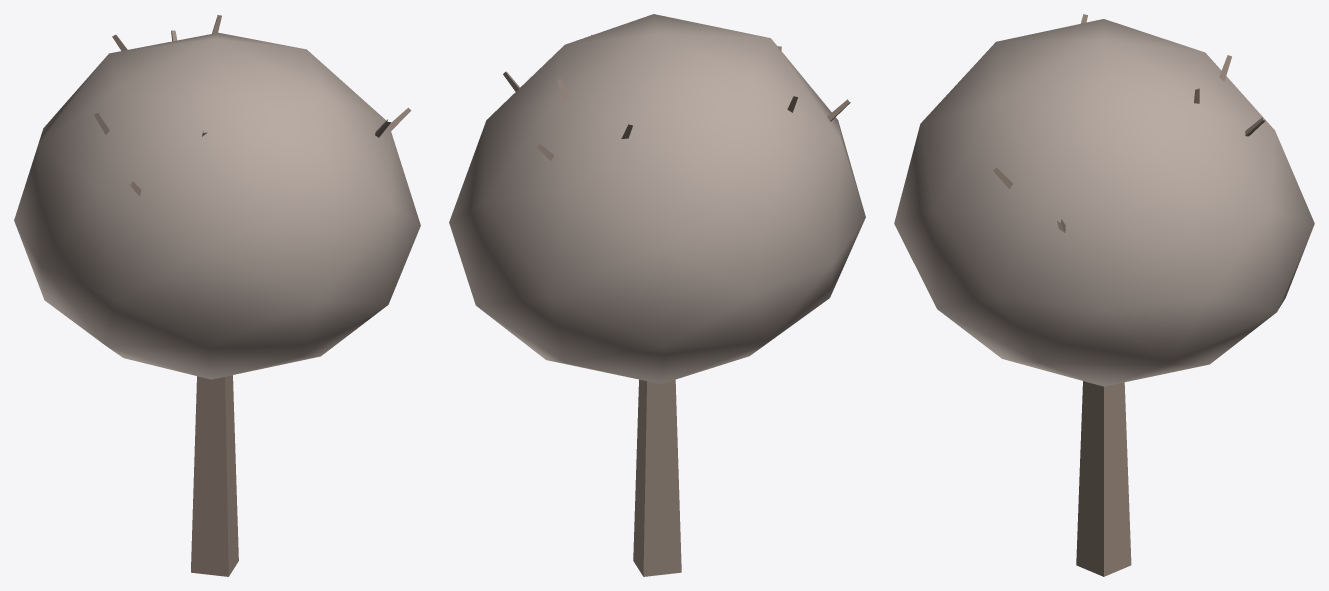
Rendered from tree-broadleaf-b-bare-far.glb.
The picture shows the model from 3 angles, left to right: view 1: azimuth 30°, elevation 25°; view 2: azimuth 150°, elevation 25°; view 3: azimuth 270°, elevation 25°; orthographic projection.
Parts seen in each view (by area): view 1: tree-broadleaf-b-bare-far; view 2: tree-broadleaf-b-bare-far; view 3: tree-broadleaf-b-bare-far.
Part boxes in pixels (box(x1,y1,x2,y2)): tree-broadleaf-b-bare-far: box(14, 15, 420, 576); tree-broadleaf-b-bare-far: box(449, 14, 865, 576); tree-broadleaf-b-bare-far: box(894, 14, 1314, 576).
Size of the model in its own units: 0.6774 by 0.9728 by 0.7073.
